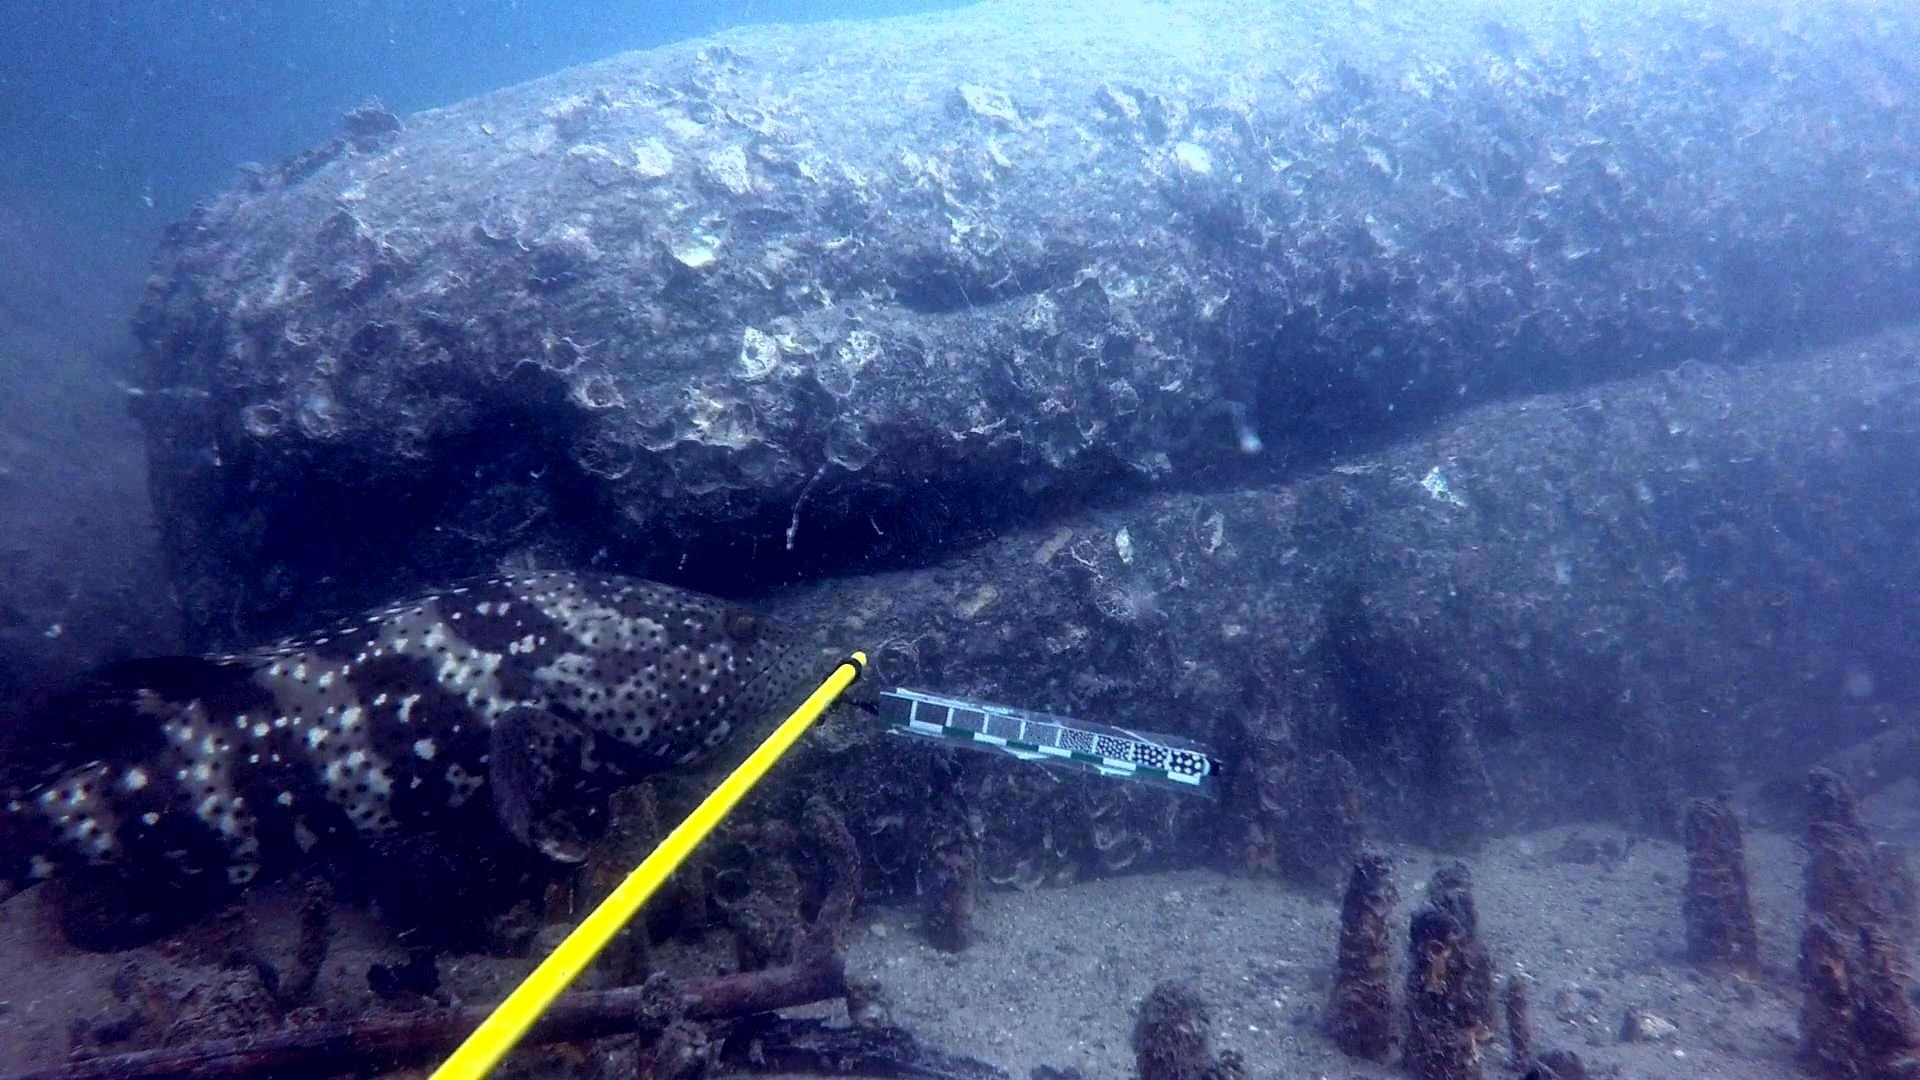epinephelus: (0, 563, 839, 927)
